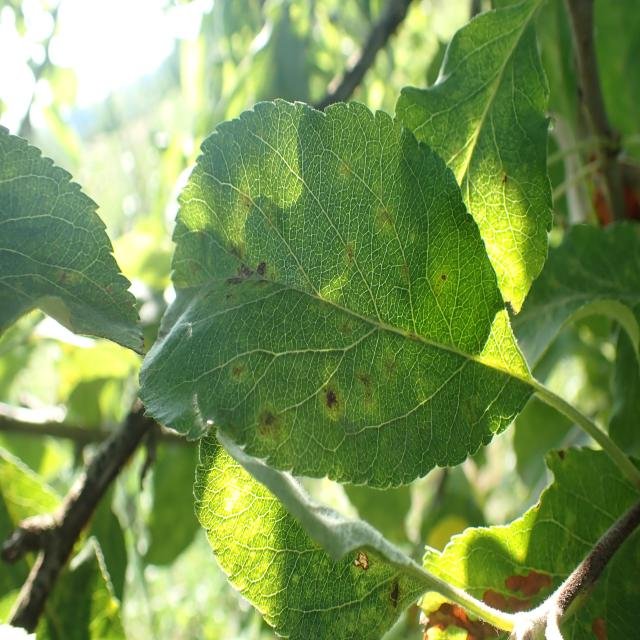scab: (201, 176, 482, 472), (8, 204, 145, 368), (306, 520, 481, 640)
